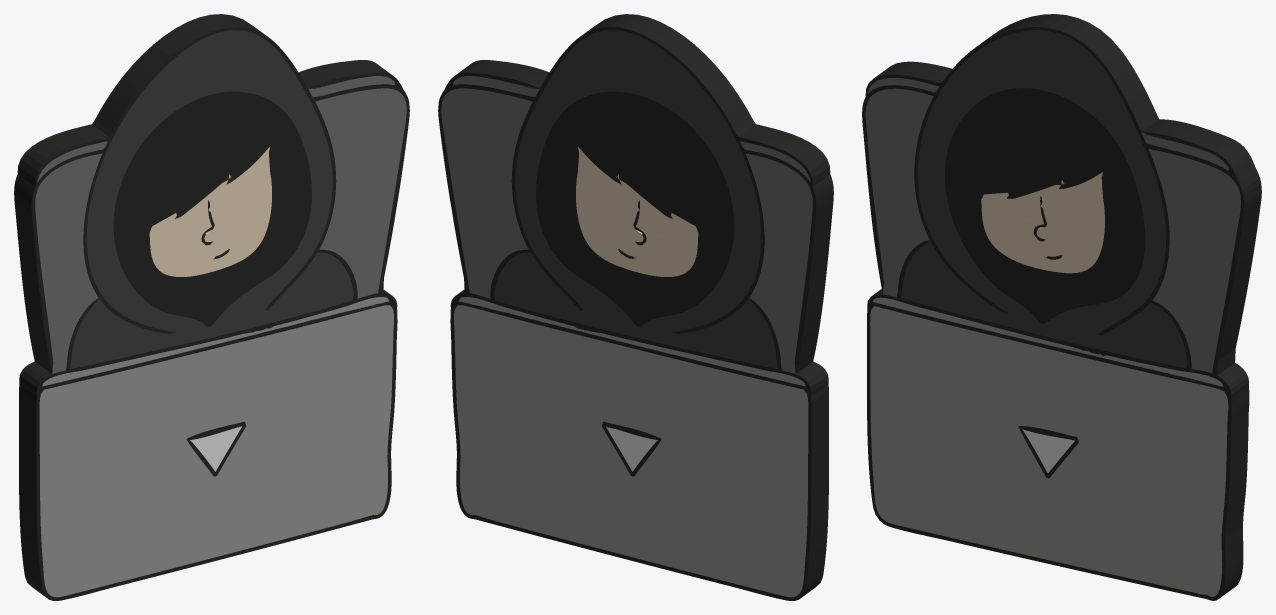
3 views of the same model, side by side, from view 1: azimuth 30°, elevation 25°; view 2: azimuth 150°, elevation 25°; view 3: azimuth 330°, elevation 25° (orthographic).
Parts seen in each view (by area): view 1: Curve; view 2: Curve; view 3: Curve.
Part boxes in pixels (left/top/right/bottom): Curve: left=14, top=14, right=409, bottom=600; Curve: left=438, top=14, right=833, bottom=600; Curve: left=862, top=14, right=1261, bottom=600.
Size of the model in its own units: 1.08 by 1.45 by 0.0866.
